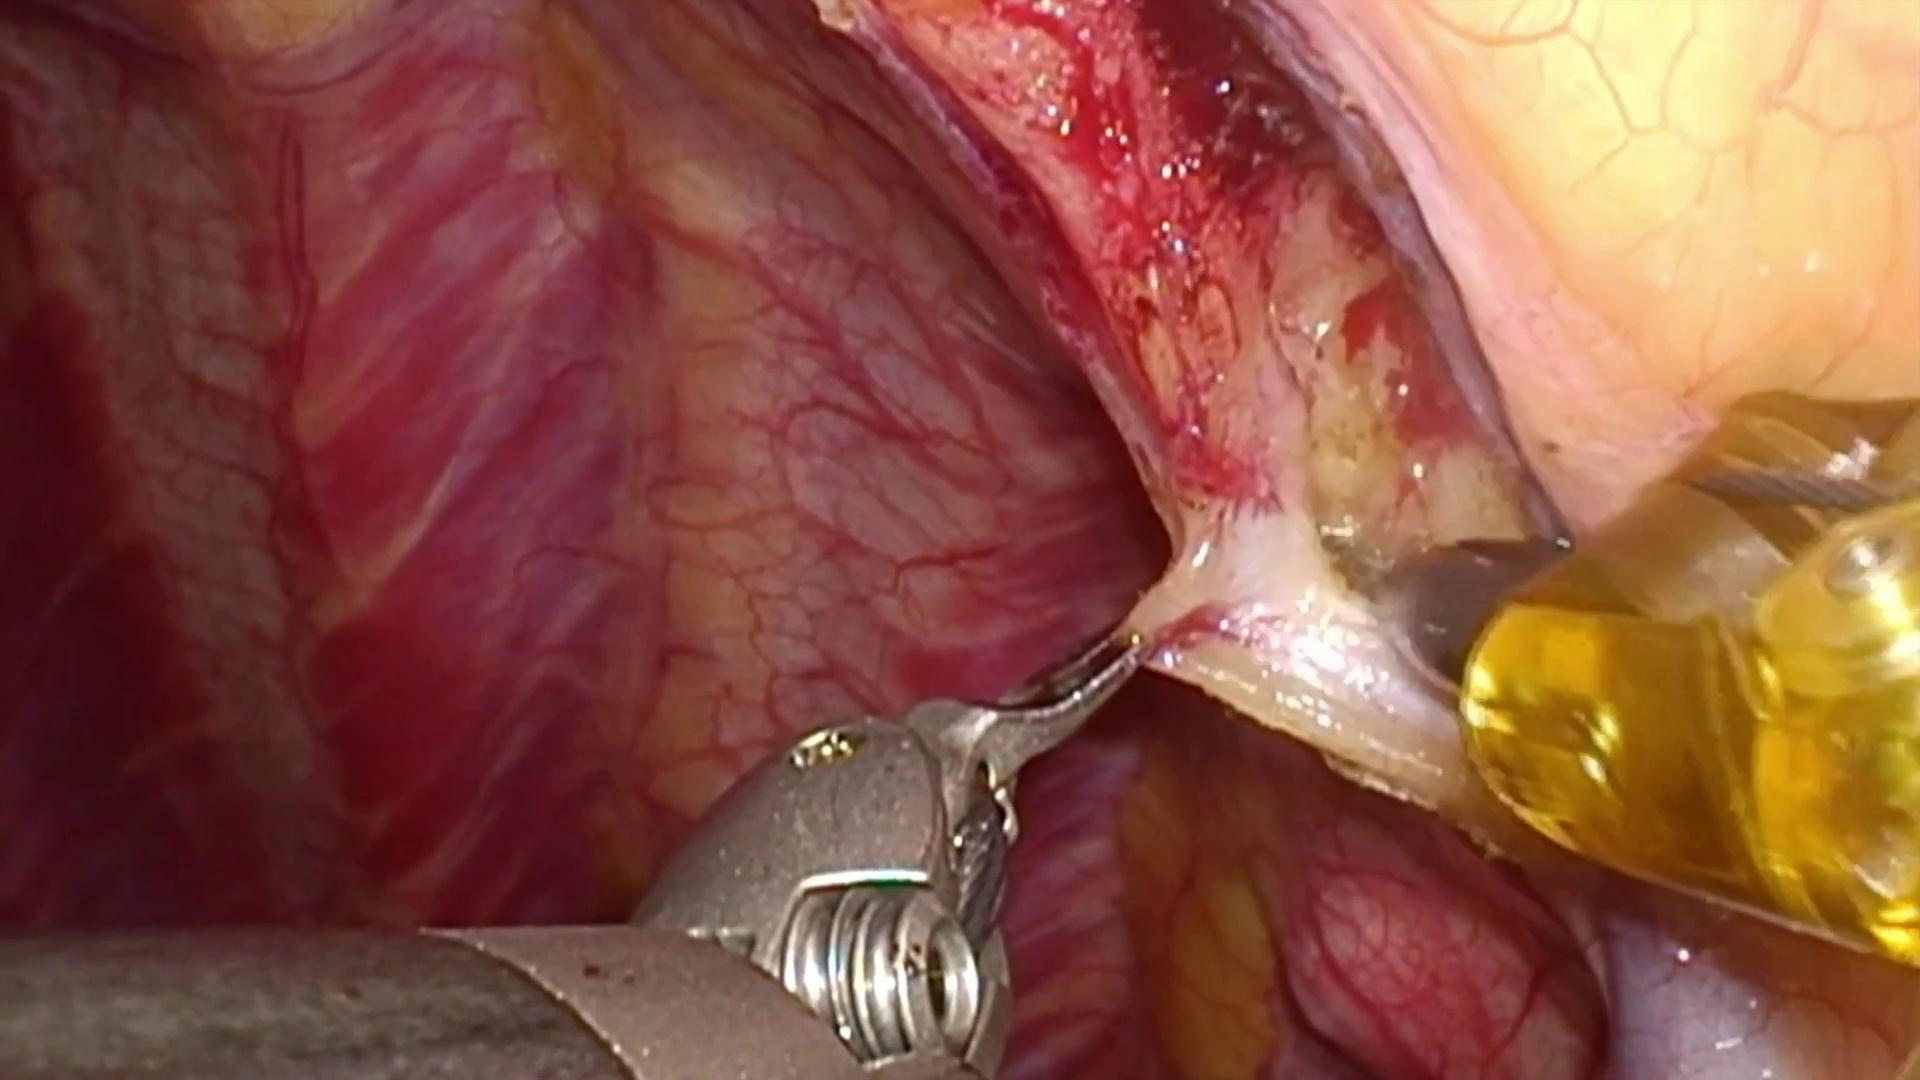Cautery_Spatula: (1309, 518, 1580, 688)
Debakey: (909, 622, 1170, 827)
